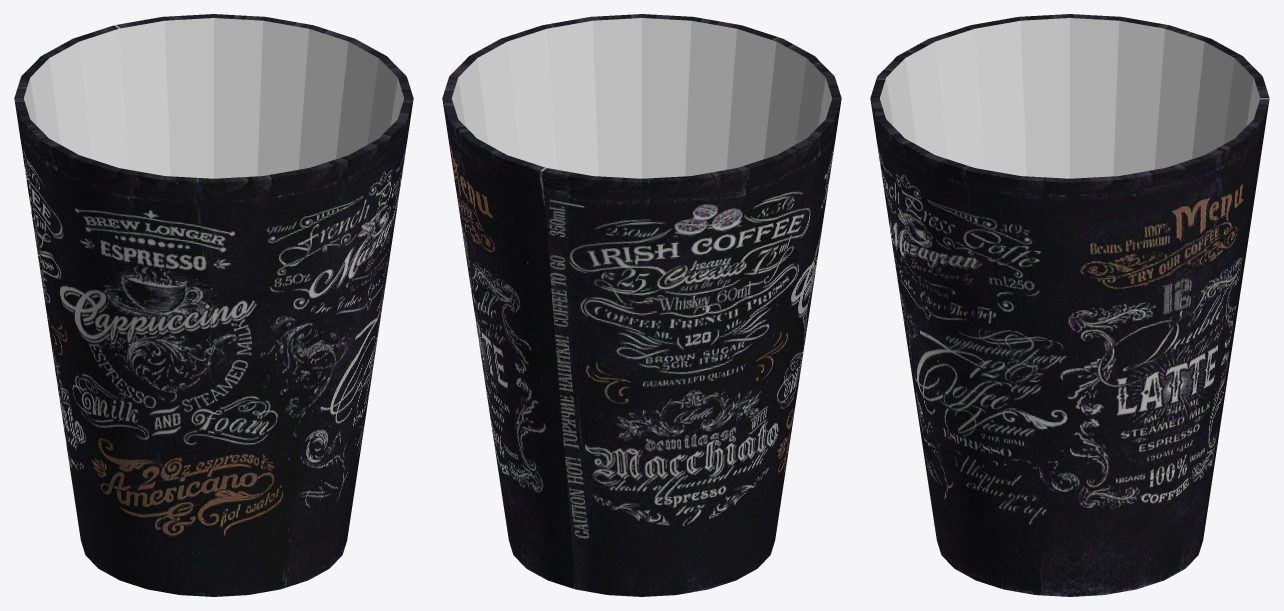
File: stakan.fbx
The picture shows the model from 3 angles, left to right: view 1: azimuth 30°, elevation 25°; view 2: azimuth 150°, elevation 25°; view 3: azimuth 270°, elevation 25°; orthographic projection.
Visible parts, largest first — view 1: Cone001; view 2: Cone001; view 3: Cone001.
Boxes of the visible parts, x1,y1,x2,y2 form: Cone001: [14, 14, 413, 596]; Cone001: [442, 14, 841, 596]; Cone001: [870, 14, 1269, 596].
Size of the model in its own units: 90 by 110 by 90.
2 materials, 1 textured.
